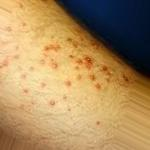Ants: (96, 63, 116, 82), (68, 51, 84, 70), (86, 36, 103, 53), (65, 35, 80, 49), (43, 43, 60, 53), (121, 72, 132, 85), (82, 56, 92, 68), (0, 56, 8, 68), (64, 79, 71, 87), (40, 59, 47, 66), (94, 83, 101, 89), (51, 63, 57, 69), (40, 82, 46, 88), (49, 99, 54, 105), (89, 73, 94, 79), (77, 74, 81, 79)
